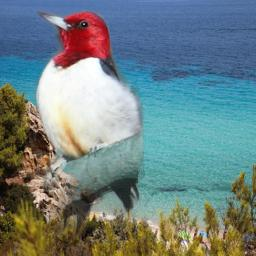Woodpecker: (30, 10, 148, 246)
